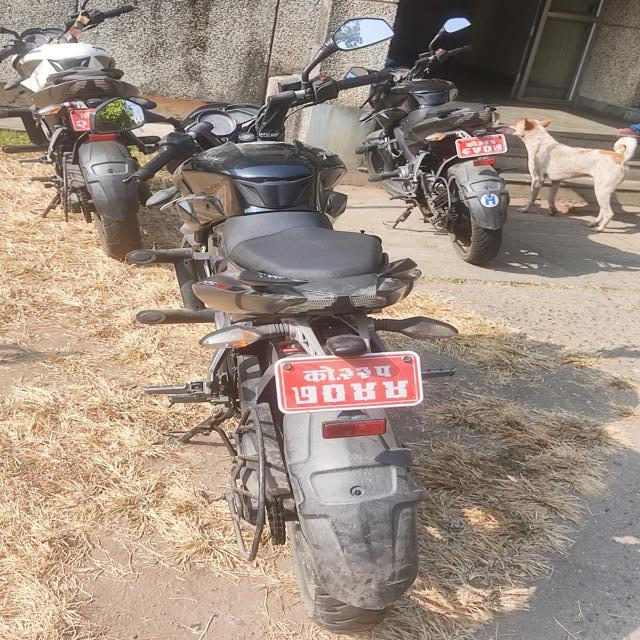license_plate: (269, 326, 439, 417)
